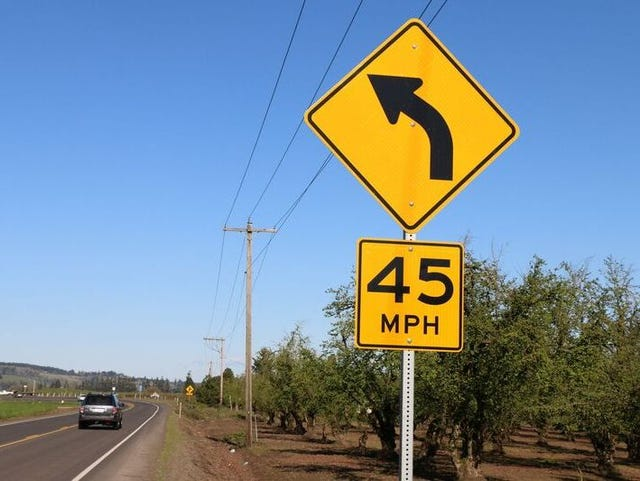left: (298, 16, 524, 235)
